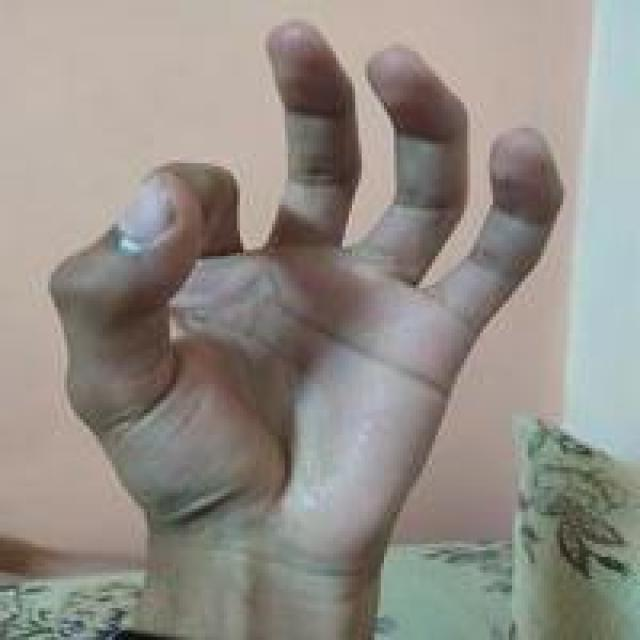F: (43, 11, 562, 552)
